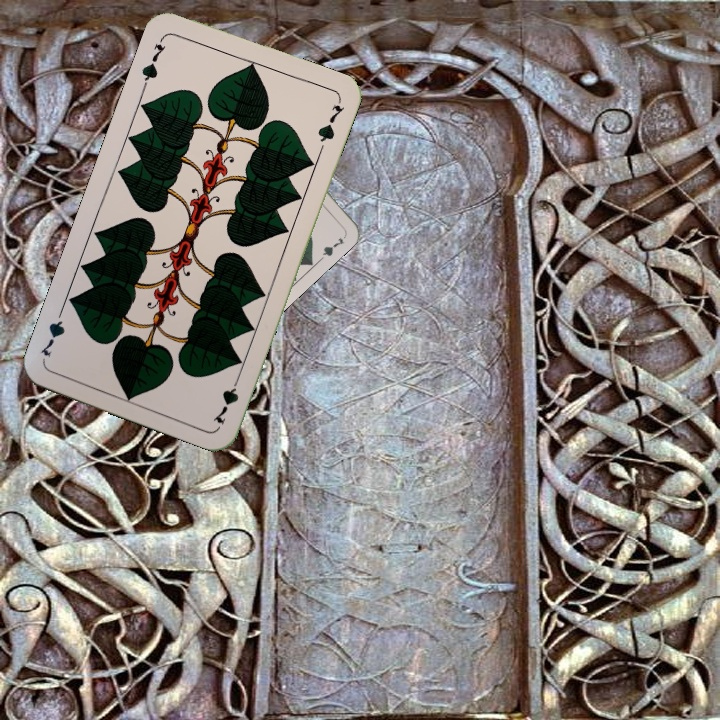G7: (209, 370, 244, 428), (137, 33, 169, 90)
